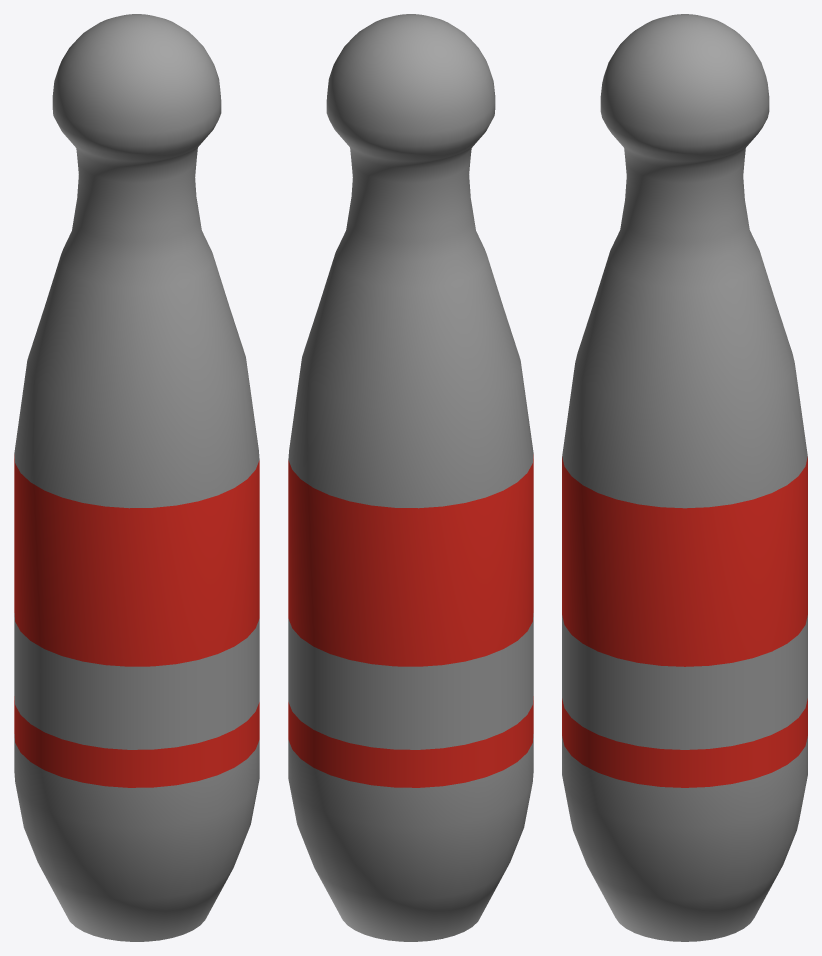
Rendered from ceglyaa.fbx.
3 renders of one model, left to right at view 1: azimuth 30°, elevation 25°; view 2: azimuth 150°, elevation 25°; view 3: azimuth 270°, elevation 25°, orthographic.
Parts seen in each view (by area): view 1: Sphere; view 2: Sphere; view 3: Sphere.
Part boxes in pixels (bbox=[...]): Sphere: bbox=[14, 14, 259, 941]; Sphere: bbox=[288, 14, 533, 941]; Sphere: bbox=[562, 14, 807, 941].
Size of the model in its own units: 291 by 1163 by 291.
